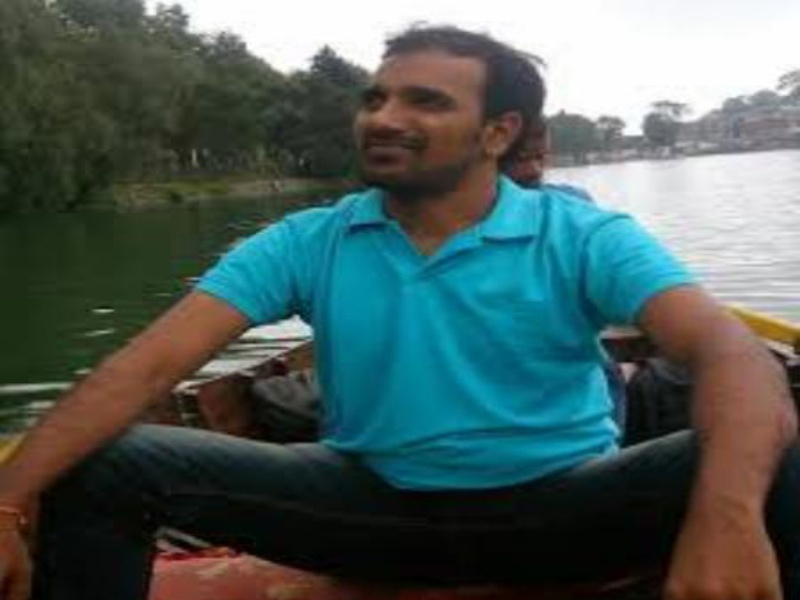TsisyArotava: (341, 10, 531, 205)
